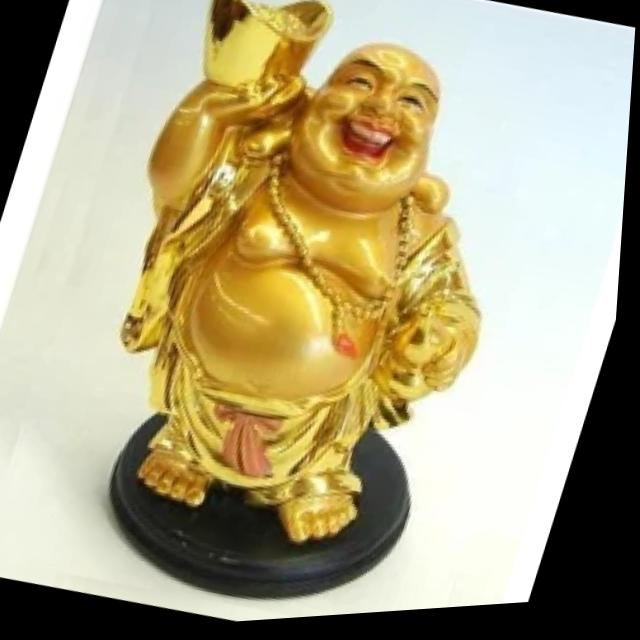Smiling Buddha: (87, 0, 529, 517)
